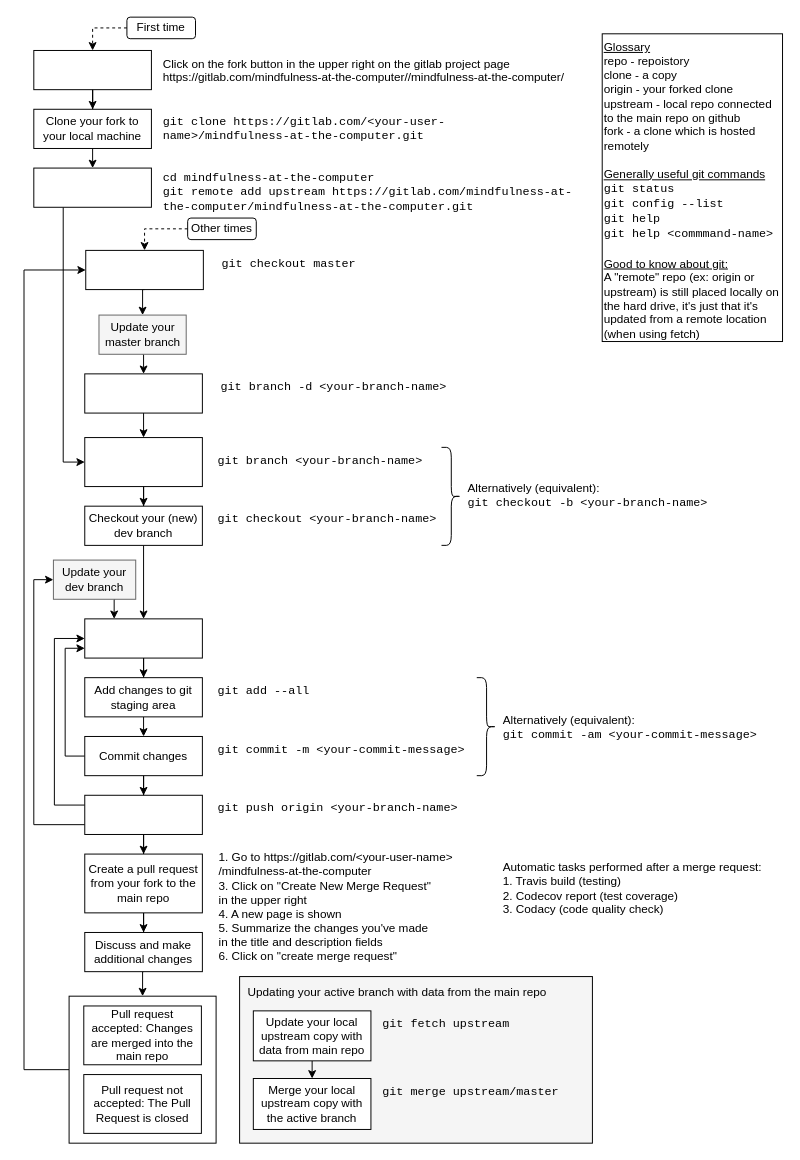
Some shapes in this 800 by 1160 pixel diagram are drawn without their labels. Here are the shapes that lost their labels. From the top down, the centre of each, then its label:
(92,69): Create your own fork of the main repo
(92,187): Set the upstream repo location
(144,269): Switch to your master branch
(143,393): Delete your old dev branch
(143,462): Create a "dev" branch for an issue or feature
(143,638): Make changes (add files, delete, edit)
(143,814): Push changes to your fork
